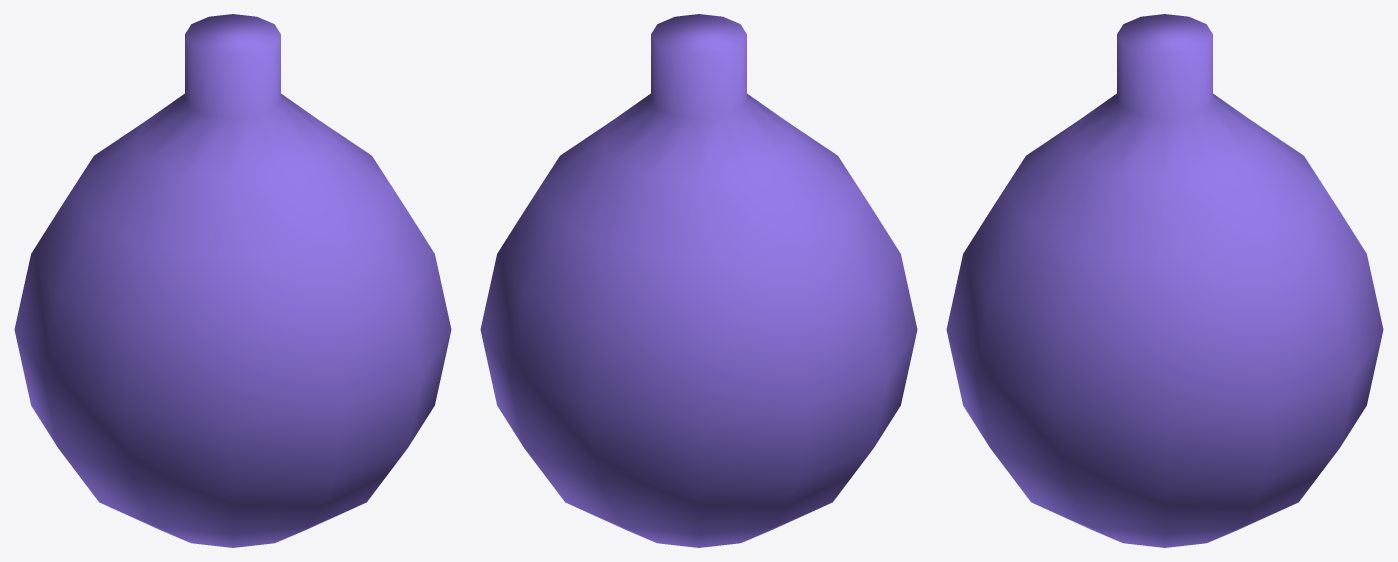
Rendered from bottle2_liquid.fbx.
The picture shows the model from 3 angles, left to right: view 1: azimuth 30°, elevation 25°; view 2: azimuth 150°, elevation 25°; view 3: azimuth 270°, elevation 25°; orthographic projection.
Parts seen in each view (by area): view 1: bottle2.liquid; view 2: bottle2.liquid; view 3: bottle2.liquid.
Boxes of the visible parts, <box> form: bottle2.liquid: <box>14,14,451,547</box>; bottle2.liquid: <box>480,14,917,547</box>; bottle2.liquid: <box>946,14,1383,547</box>.
Size of the model in its own units: 7.79 by 9.71 by 7.79.
